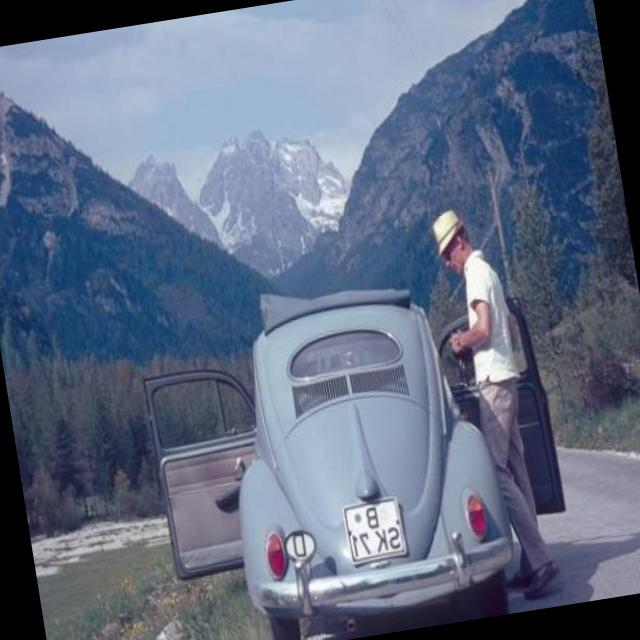car: (194, 262, 533, 640)
